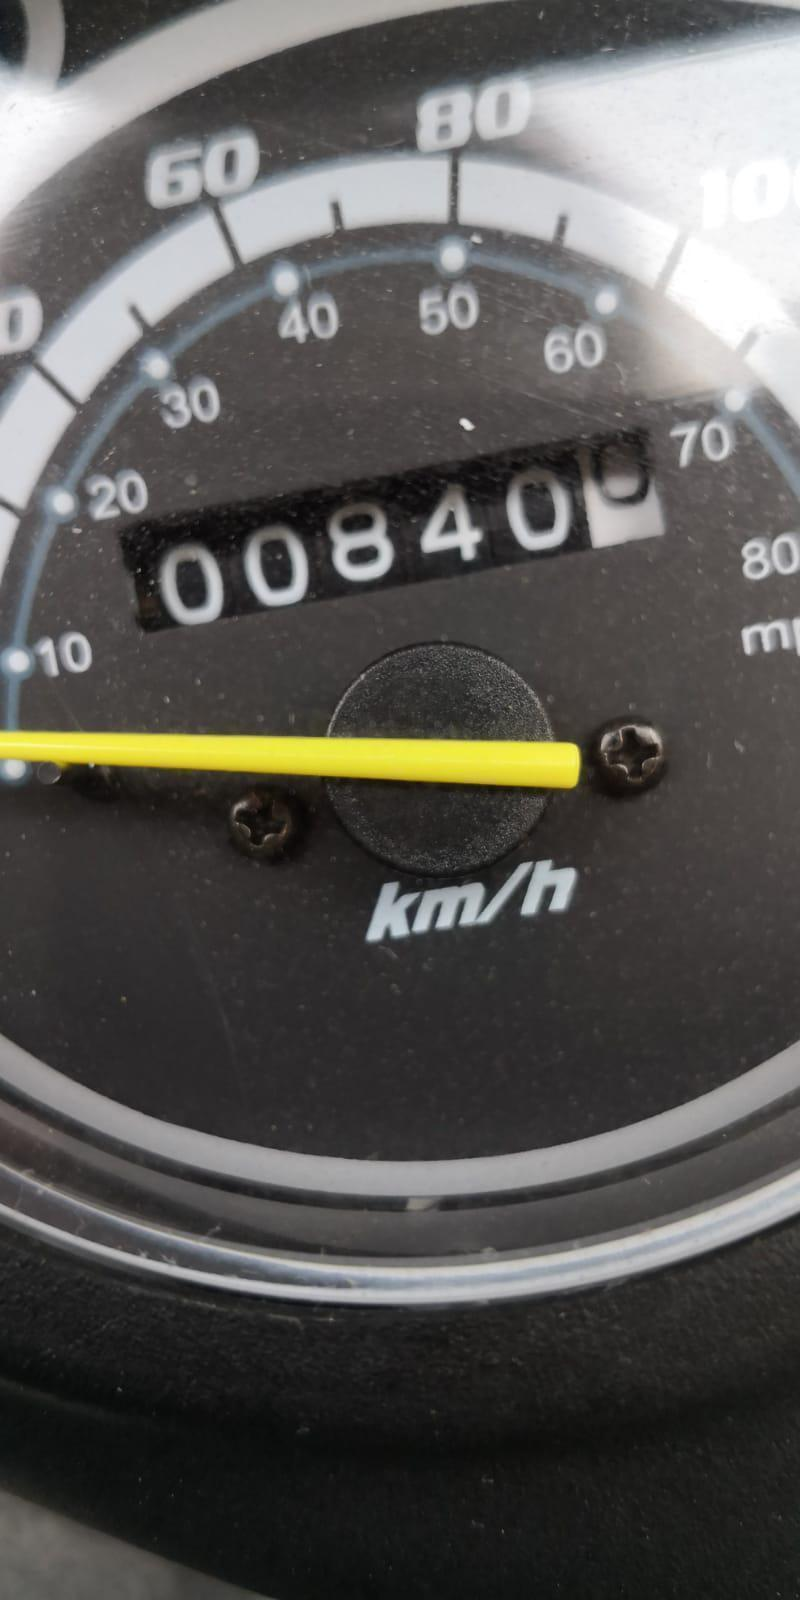0: (495, 466, 576, 562), (148, 538, 229, 628), (237, 520, 315, 612), (586, 428, 662, 516), (115, 465, 152, 515)
4: (417, 476, 488, 576)
8: (324, 492, 398, 591)
odometer: (113, 420, 674, 639)
